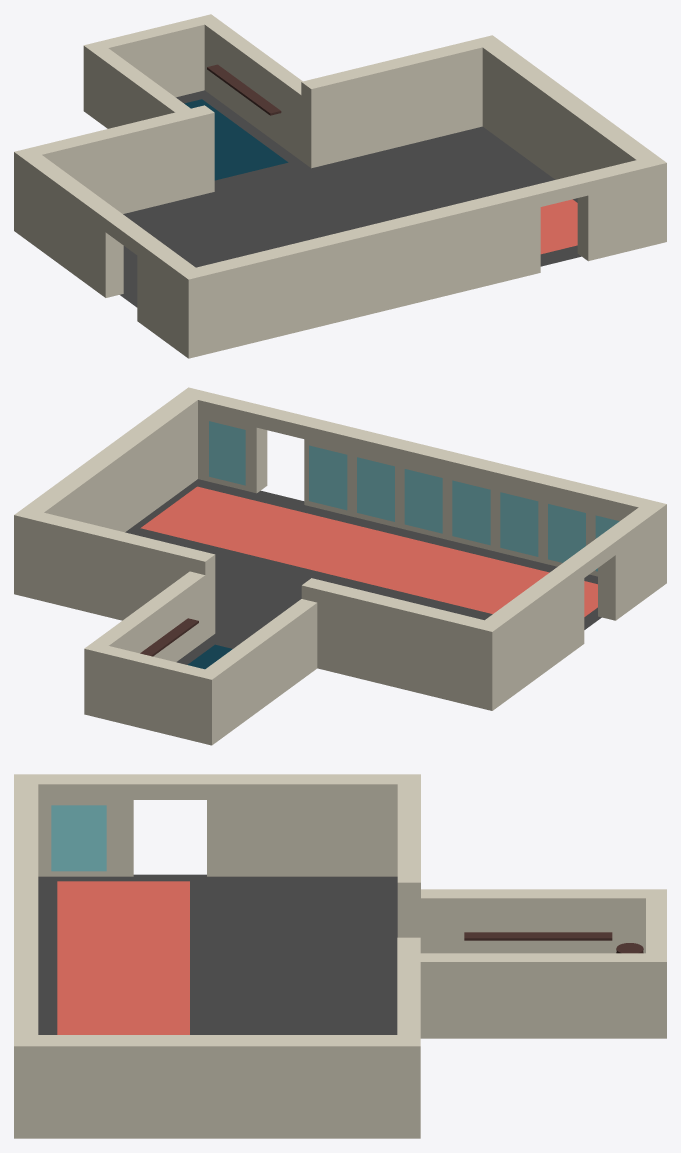
File: cafe_room2_withback.glb
3 renders of one model, top to bottom at view 1: azimuth 30°, elevation 25°; view 2: azimuth 150°, elevation 25°; view 3: azimuth 270°, elevation 25°, orthographic. The views are drawn at different scales.
Visible parts, largest first — view 1: Cube.002, grass.001, blue_rug, red_rug, shelf1; view 2: Cube.002, red_rug, grass.001, shelf1; view 3: Cube.002, grass.001, red_rug, shelf2.
Boxes of the visible parts, x1,y1,x2,y2 form: Cube.002: [14, 14, 666, 358]; grass.001: [120, 90, 581, 307]; blue_rug: [184, 99, 288, 180]; red_rug: [540, 199, 577, 254]; shelf1: [207, 64, 281, 115]; Cube.002: [14, 387, 666, 745]; red_rug: [140, 486, 597, 616]; grass.001: [125, 479, 601, 664]; shelf1: [140, 618, 198, 656]; Cube.002: [14, 774, 666, 1138]; grass.001: [38, 874, 397, 1034]; red_rug: [57, 881, 189, 1034]; shelf2: [464, 932, 612, 940].
Size of what is drawn, in the model's own units: 9.92 by 1.57 by 10.06.
